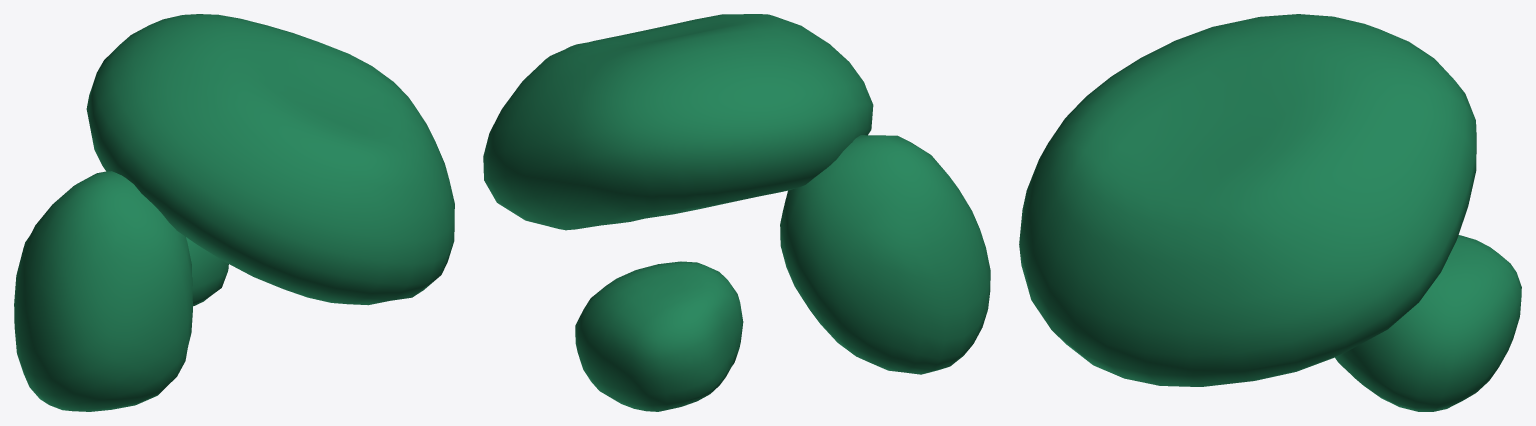
File: Tree_Top_A_02.fbx
3 views of the same model, side by side, from view 1: azimuth 30°, elevation 25°; view 2: azimuth 150°, elevation 25°; view 3: azimuth 270°, elevation 25° (orthographic). The views are drawn at different scales.
Visible parts, largest first — view 1: Tree_Top_A_02_LOD0; view 2: Tree_Top_A_02_LOD0; view 3: Tree_Top_A_02_LOD0.
Part boxes in pixels (left/top/right/bottom): Tree_Top_A_02_LOD0: left=14, top=14, right=454, bottom=411; Tree_Top_A_02_LOD0: left=483, top=14, right=990, bottom=411; Tree_Top_A_02_LOD0: left=1019, top=14, right=1521, bottom=411.
Size of what is drawn, in the model's own units: 910 by 614 by 792.
